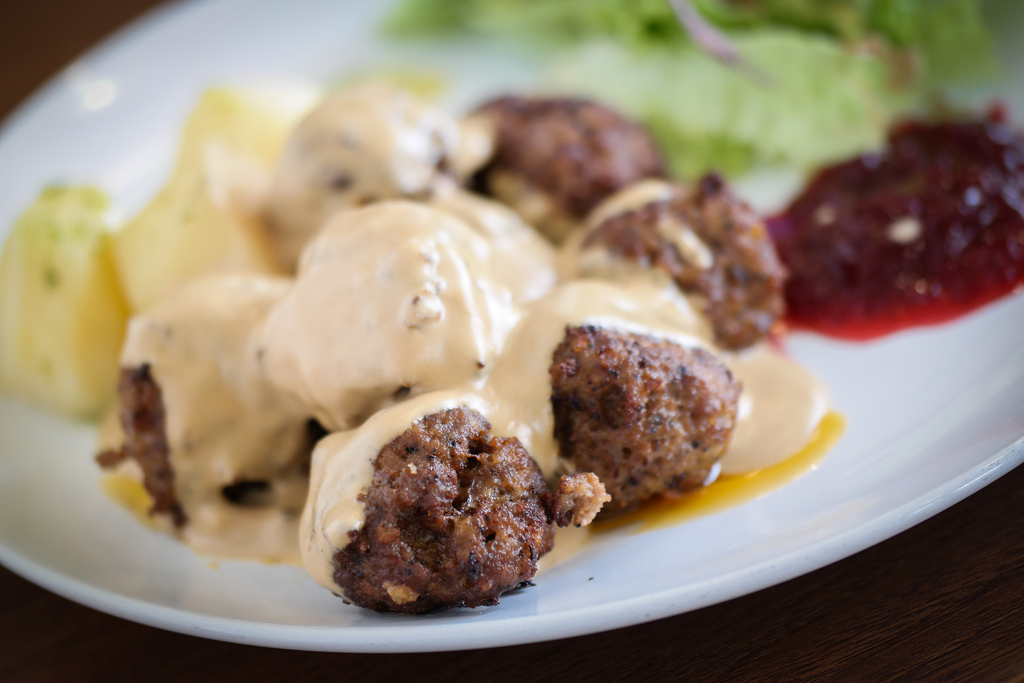boiled potatoes: (96, 96, 294, 309), (8, 186, 143, 405)
meatballs: (273, 72, 772, 609), (323, 399, 561, 614), (540, 332, 750, 513), (457, 91, 677, 246), (589, 191, 789, 349)
